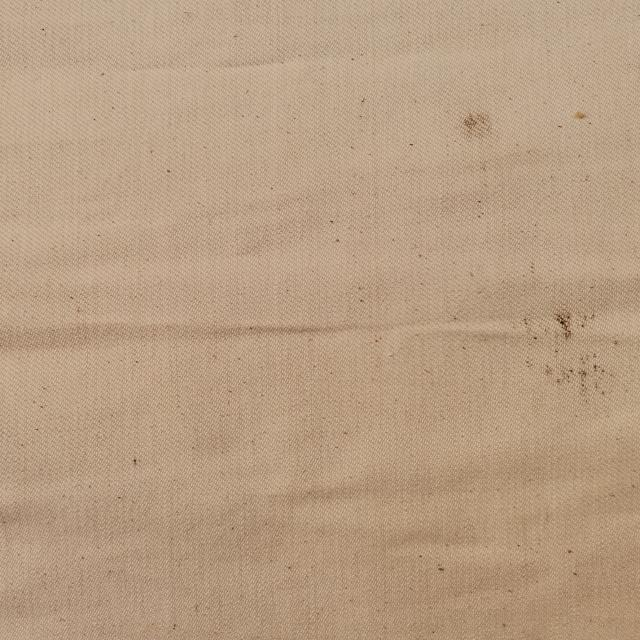taaaches: (514, 304, 633, 402), (449, 108, 503, 148), (566, 108, 592, 125)
